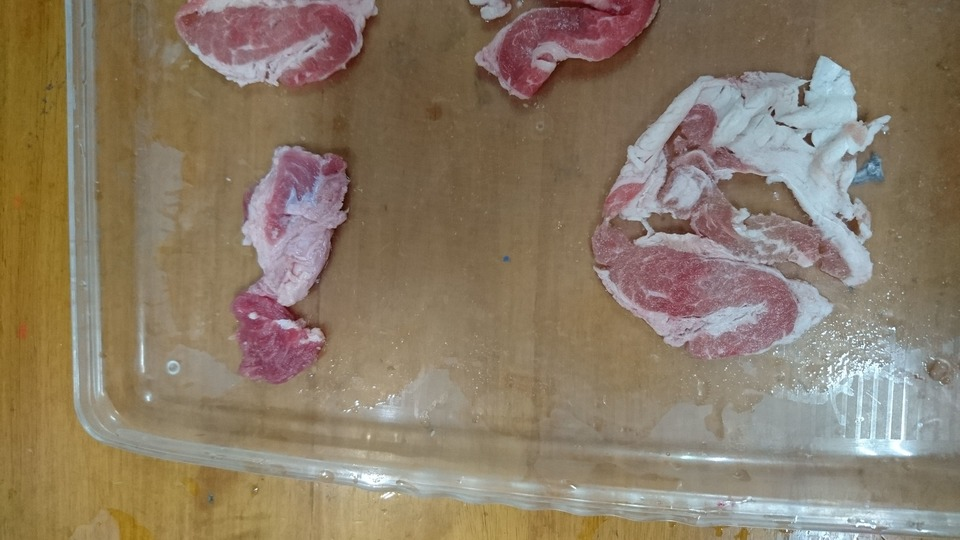restructured meat: (590, 51, 885, 361), (234, 142, 347, 389)
